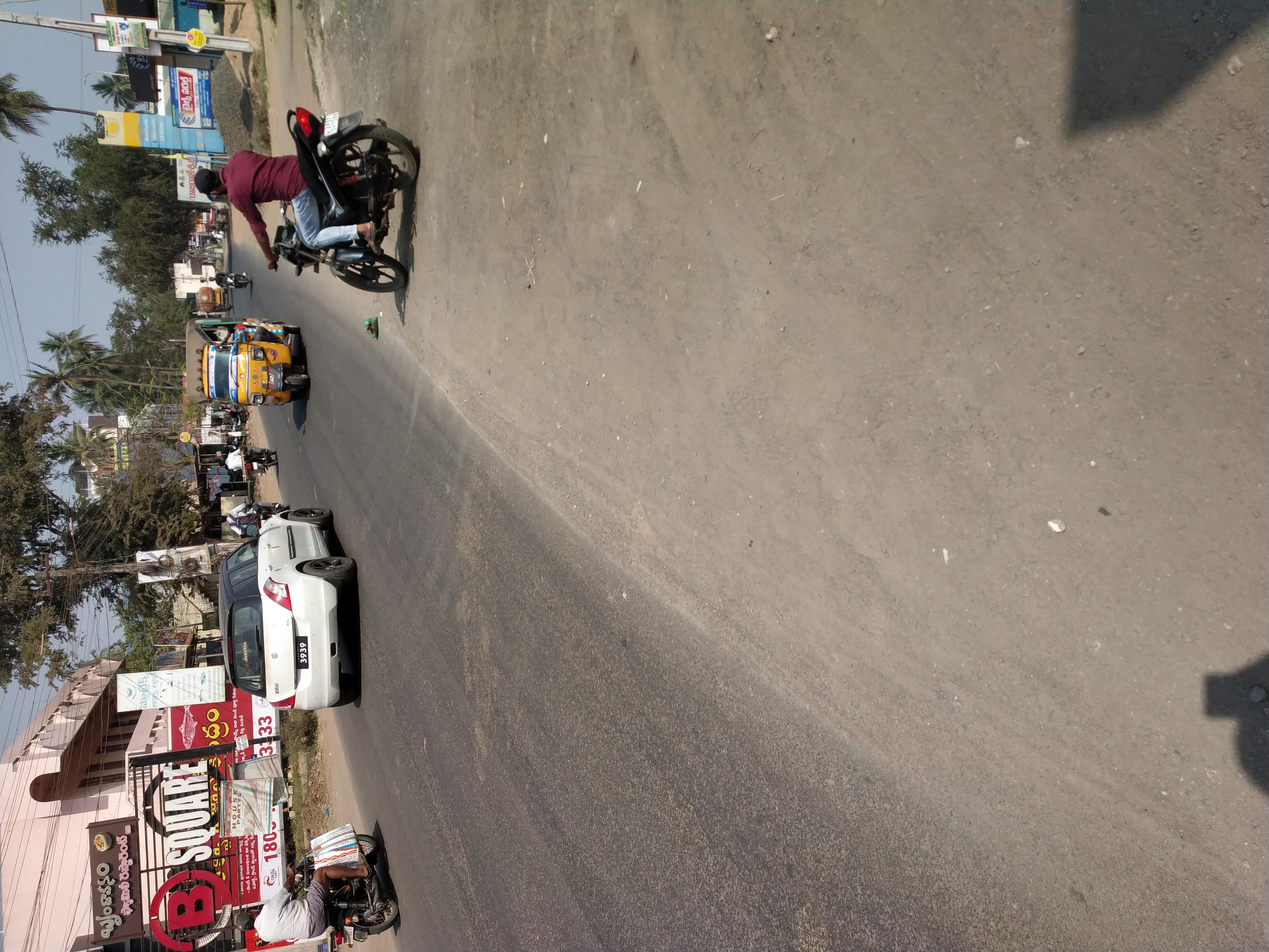Auto: (698, 143, 876, 239)
